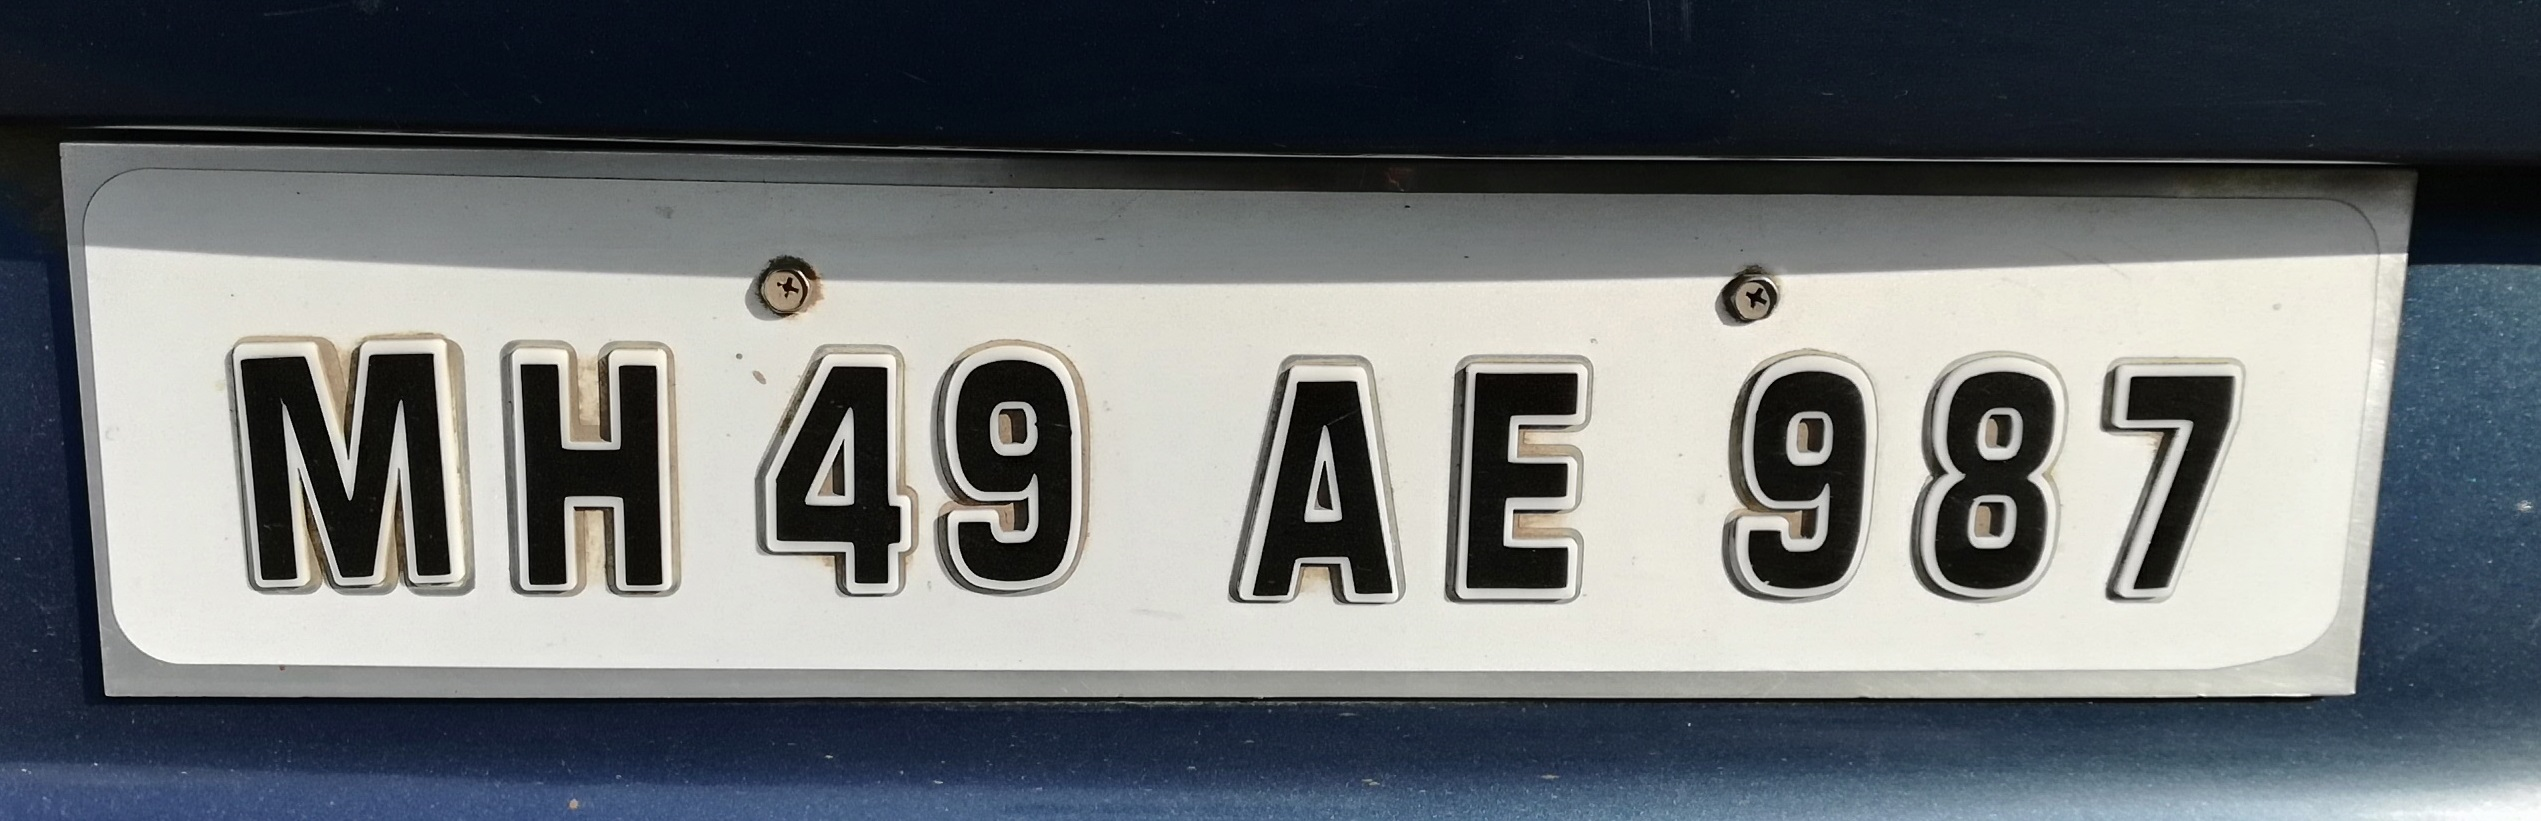numberplate: (52, 135, 2427, 717)
